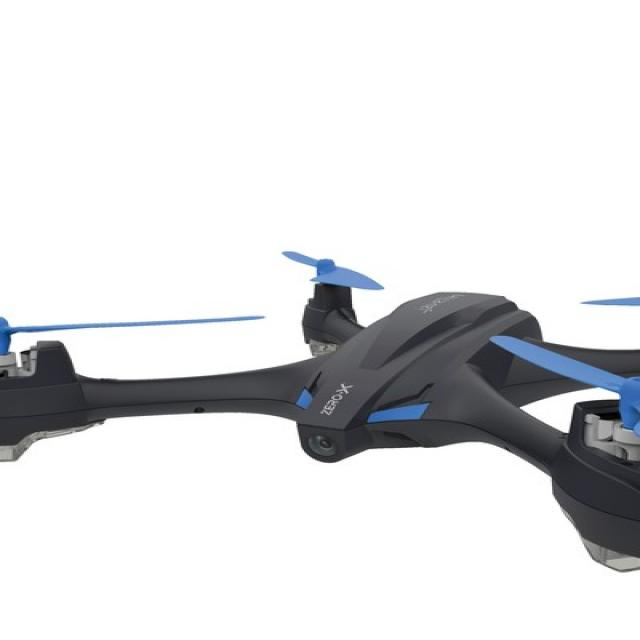drone: (0, 238, 640, 554)
